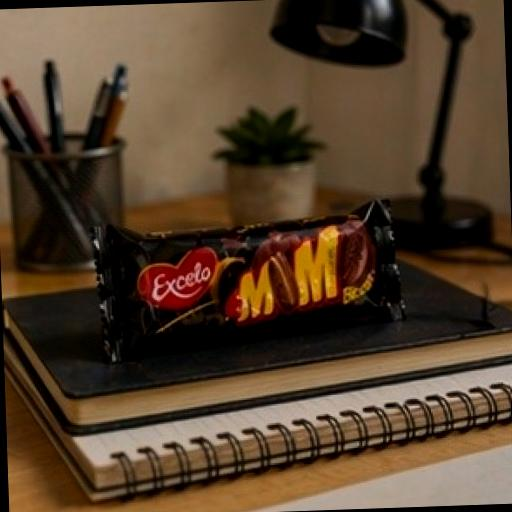MOMO: (42, 156, 448, 430)
